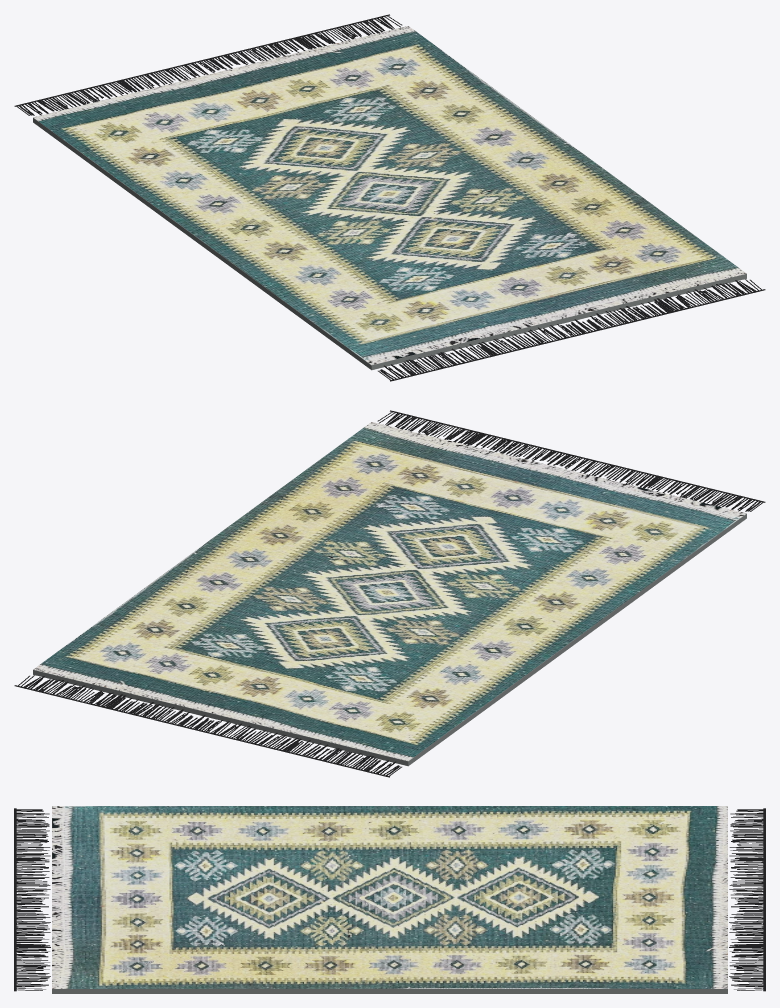
The picture shows the model from 3 angles, top to bottom: view 1: azimuth 30°, elevation 25°; view 2: azimuth 150°, elevation 25°; view 3: azimuth 270°, elevation 25°; orthographic projection.
Parts seen in each view (by area): view 1: rug, fringeB, fringeA, side; view 2: rug, fringeA, fringeB, side; view 3: rug, fringeB, fringeA, side.
Part boxes in pixels (left/top/right/bottom): rug: left=33, top=26, right=746, bottom=365; fringeB: left=378, top=279, right=765, bottom=381; fringeA: left=14, top=14, right=402, bottom=115; side: left=33, top=117, right=746, bottom=370; rug: left=33, top=422, right=746, bottom=761; fringeA: left=14, top=675, right=401, bottom=777; fringeB: left=377, top=410, right=765, bottom=511; side: left=33, top=513, right=746, bottom=766; rug: left=52, top=806, right=727, bottom=988; fringeB: left=14, top=808, right=50, bottom=991; fringeA: left=729, top=808, right=765, bottom=991; side: left=52, top=989, right=727, bottom=993.
Size of what is drawn, in the model's own units: 0.8 by 0.0102 by 1.39.
2 materials, 2 textured.
